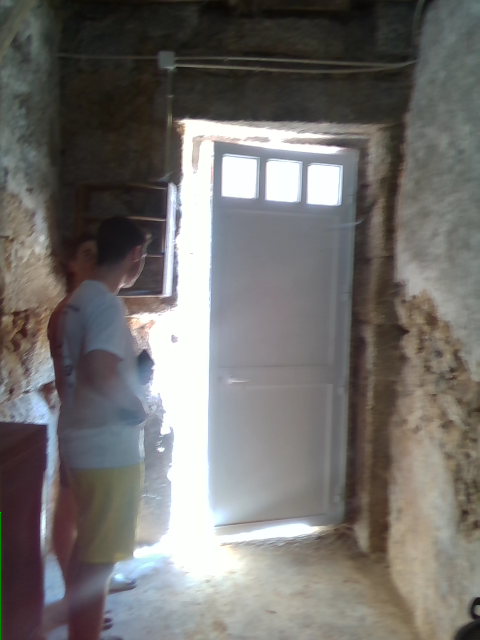closed: (169, 122, 376, 530)
